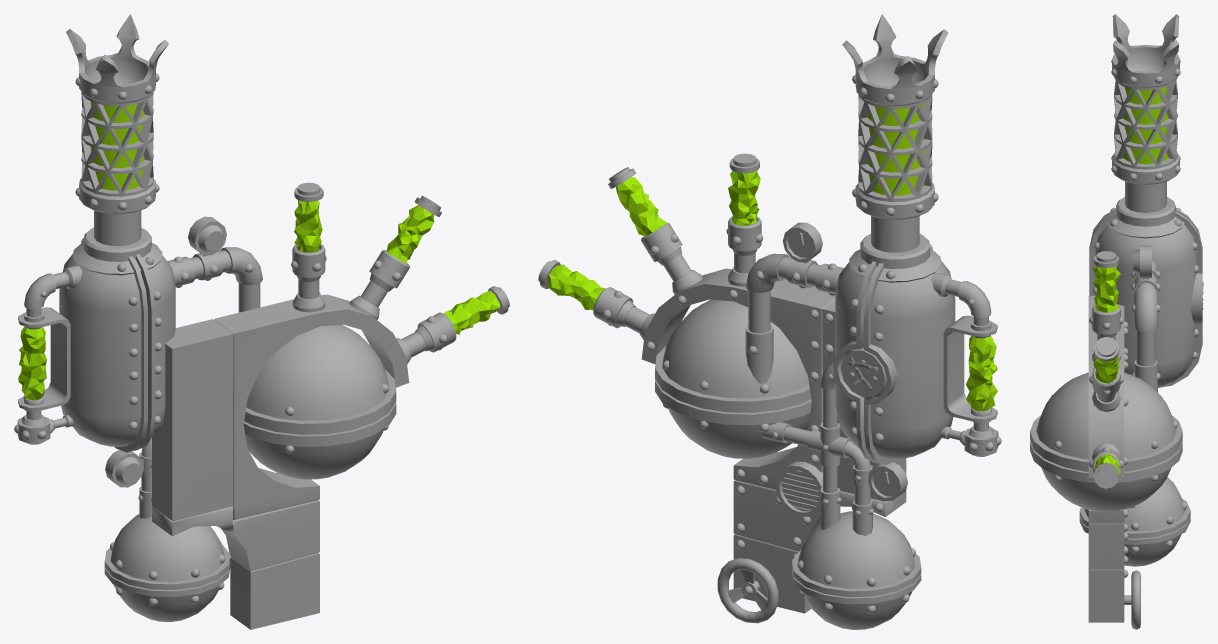
The model's file is SM_Backpack.fbx.
The picture shows the model from 3 angles, left to right: view 1: azimuth 30°, elevation 25°; view 2: azimuth 150°, elevation 25°; view 3: azimuth 270°, elevation 25°; orthographic projection. The views are drawn at different scales.
Visible parts, largest first — view 1: pBackpack; view 2: pBackpack; view 3: pBackpack.
Boxes of the visible parts, x1=… form: pBackpack: x1=14, y1=14, x2=509, y2=629; pBackpack: x1=538, y1=14, x2=1001, y2=629; pBackpack: x1=1030, y1=14, x2=1203, y2=629.
Bounding box in the file's own units: 1.08 × 1.36 × 0.3993.
